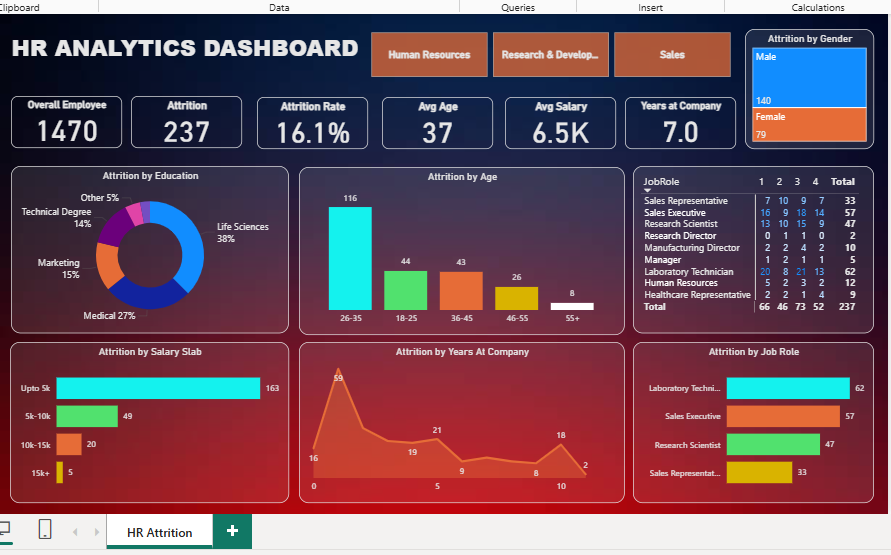

Layout of this report page (visuals, bound fields, positions):
{"tool":"powerbi","page":{"name":"HR Attrition","canvas":[1280,720],"ordinal":0},"visuals":[{"type":"card","title":"Overall Employee","fields":{"Values":["CountNonNull(HR_Analytics.EmpID)"]},"box":[15.8,118.1,160,75],"z":0},{"type":"card","title":"Attrition","fields":{"Values":["Sum(HR_Analytics.AttritionCount)"]},"box":[188.6,118.1,160,75],"z":1000},{"type":"card","title":"Attrition Rate","fields":{"Values":["HR_Analytics.AttritionRate"]},"box":[370.1,119.5,160,75],"z":2000},{"type":"card","title":"Avg Age","fields":{"Values":["Avg(HR_Analytics.Age)"]},"box":[550.1,119.5,160,75],"z":3000},{"type":"card","title":"Avg Salary","fields":{"Values":["Avg(HR_Analytics.MonthlyIncome)"]},"box":[727.2,119.5,160,75],"z":4000},{"type":"card","title":"Years at Company","fields":{"Values":["Avg(HR_Analytics.YearsAtCompany)"]},"box":[900,119.5,160,75],"z":5000},{"type":"donutChart","title":"Attrition by Education","fields":{"Category":["HR_Analytics.EducationField"],"Y":["Sum(HR_Analytics.AttritionCount)"]},"box":[15.8,218.9,400.3,241],"z":6000},{"type":"columnChart","title":"Attrition by Age","fields":{"Category":["HR_Analytics.AgeGroup"],"Y":["Sum(HR_Analytics.AttritionCount)"]},"box":[430.6,220.3,469.4,241.9],"z":7000},{"type":"pivotTable","fields":{"Rows":["HR_Analytics.JobRole"],"Columns":["HR_Analytics.JobSatisfaction"],"Values":["Sum(HR_Analytics.AttritionCount)"]},"box":[911.5,218.9,347,241],"z":8000},{"type":"barChart","title":"Attrition by Salary Slab","fields":{"Category":["HR_Analytics.SalarySlab"],"Y":["Sum(HR_Analytics.AttritionCount)"]},"box":[14.4,472.3,401.8,231.8],"z":9000},{"type":"barChart","title":"Attrition by Job Role","fields":{"Category":["HR_Analytics.JobRole"],"Y":["Sum(HR_Analytics.AttritionCount)"]},"box":[911.5,472.3,347,231.8],"z":10000},{"type":"areaChart","title":"Attrition by Years At Company","fields":{"Category":["HR_Analytics.YearsAtCompany"],"Y":["Sum(HR_Analytics.AttritionCount)"]},"box":[430.6,472.3,469.4,231.8],"z":11000},{"type":"treemap","title":"Attrition by Gender","fields":{"Group":["HR_Analytics.Gender"],"Values":["Sum(HR_Analytics.AttritionCount)"]},"box":[1072.8,21.6,185.8,172.8],"z":12000},{"type":"advancedSlicerVisual","fields":{"Values":["HR_Analytics.Department"]},"box":[529.9,21.6,529.9,74.9],"z":13000},{"type":"textbox","box":[11.5,20.2,515.5,70.6],"z":14000}]}

Visuals, with their boxes in screenshot pixels (x1, y1, x2, y2):
"Overall Employee" card: 2 93 116 147
"Attrition" card: 125 93 239 147
"Attrition Rate" card: 254 94 368 148
"Avg Age" card: 382 94 496 148
"Avg Salary" card: 508 94 622 148
"Years at Company" card: 631 94 745 148
"Attrition by Education" donutChart: 2 165 287 337
"Attrition by Age" columnChart: 297 166 631 338
pivotTable - HR_Analytics.JobRole x HR_Analytics.JobSatisfaction: 639 165 886 337
"Attrition by Salary Slab" barChart: 1 345 287 510
"Attrition by Job Role" barChart: 639 345 886 510
"Attrition by Years At Company" areaChart: 297 345 631 510
"Attrition by Gender" treemap: 754 25 886 148
advancedSlicerVisual - HR_Analytics.Department: 368 25 745 78
textbox: 0 24 366 74
